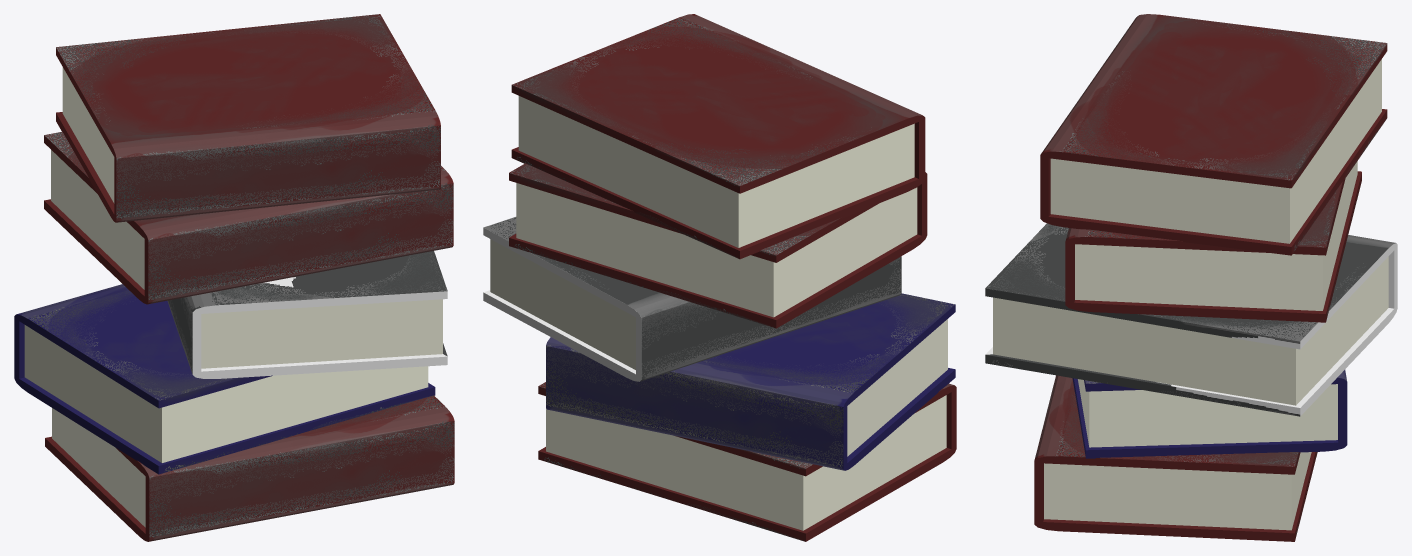
The model's file is Stack-2.fbx.
3 views of the same model, side by side, from view 1: azimuth 30°, elevation 25°; view 2: azimuth 150°, elevation 25°; view 3: azimuth 270°, elevation 25° (orthographic). The views are drawn at different scales.
Visible parts, largest first — view 1: Cube.021; view 2: Cube.021; view 3: Cube.021.
Boxes of the visible parts, bbox=[...] form: Cube.021: bbox=[14, 14, 454, 541]; Cube.021: bbox=[483, 14, 956, 541]; Cube.021: bbox=[985, 14, 1397, 541].
Bounding box in the file's own units: 21.54 × 20.31 × 20.21.
10 materials, 5 textured.
